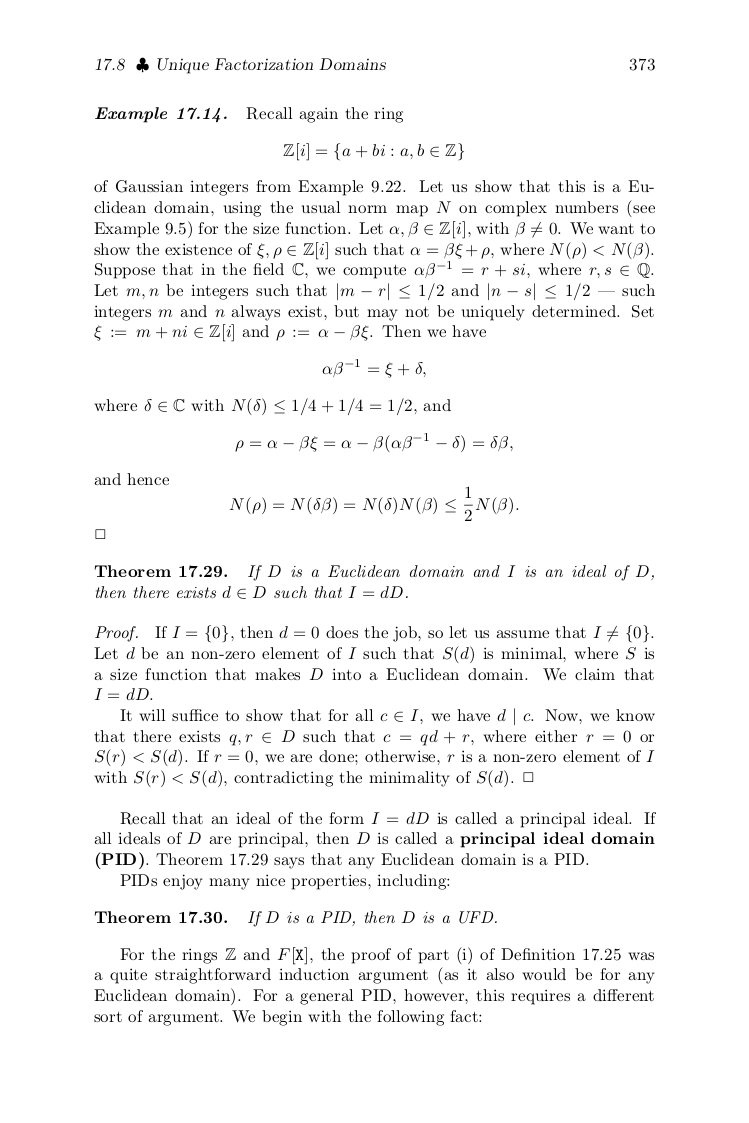formula: (229, 485, 518, 521), (235, 432, 512, 453), (283, 142, 463, 161), (322, 358, 425, 378)
